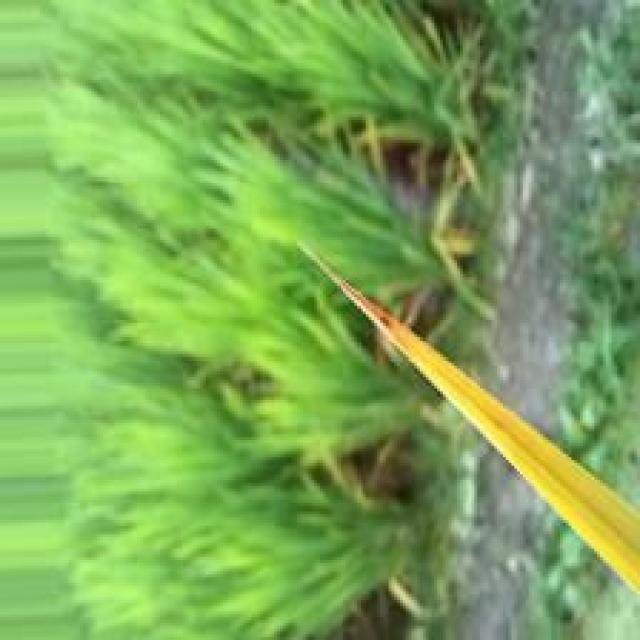Leaf_Scald: (297, 241, 640, 596)
